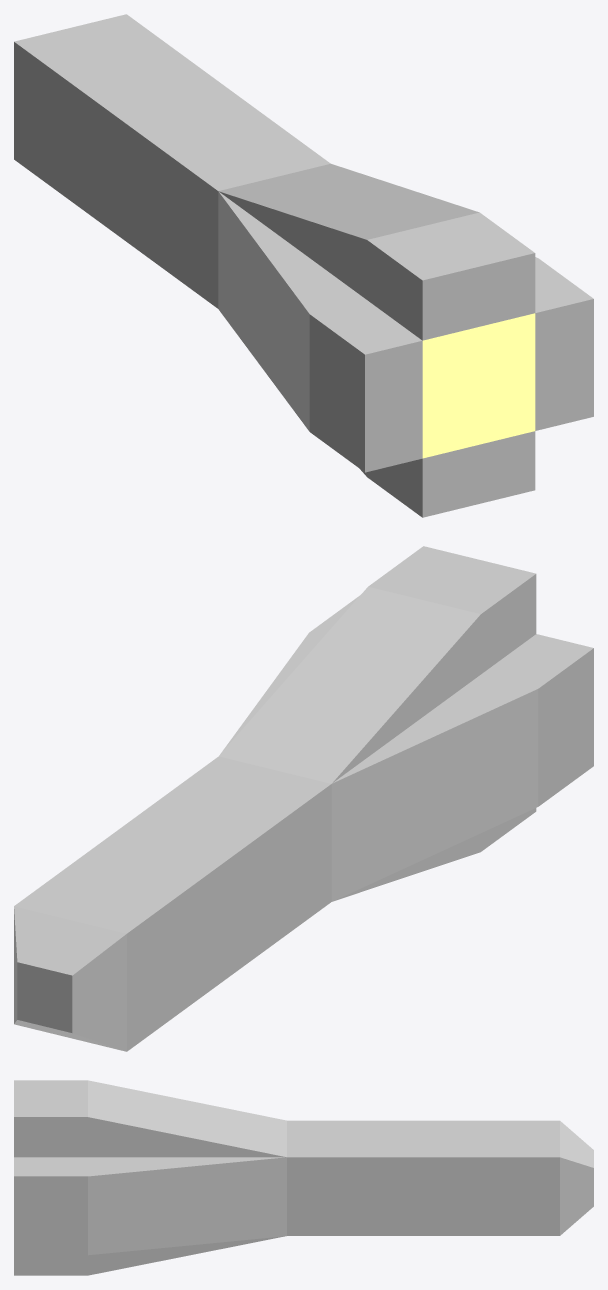
Rendered from missile.glb.
3 renders of one model, top to bottom at view 1: azimuth 30°, elevation 25°; view 2: azimuth 150°, elevation 25°; view 3: azimuth 270°, elevation 25°, orthographic. The views are drawn at different scales.
Visible parts, largest first — view 1: Cube; view 2: Cube; view 3: Cube.
Boxes of the visible parts, x1,y1,x2,y2 form: Cube: [14, 14, 593, 517]; Cube: [14, 546, 593, 1051]; Cube: [14, 1080, 593, 1275].
Size of the model in its own units: 0.8128 by 0.8053 by 2.67.
